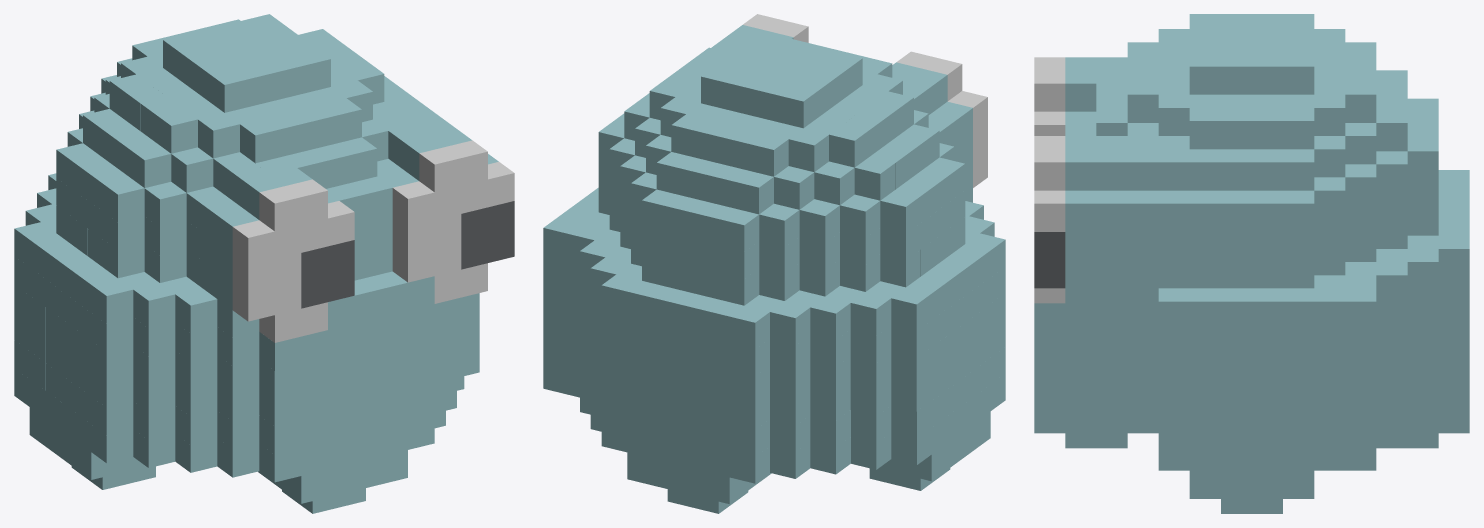
File: ghost_cyan.glb
3 views of the same model, side by side, from view 1: azimuth 30°, elevation 25°; view 2: azimuth 150°, elevation 25°; view 3: azimuth 270°, elevation 25° (orthographic). The views are drawn at different scales.
Visible parts, largest first — view 1: Mesh_Mesh_head_geo.001_lambert2SG.001; view 2: Mesh_Mesh_head_geo.001_lambert2SG.001; view 3: Mesh_Mesh_head_geo.001_lambert2SG.001.
Boxes of the visible parts, x1,y1,x2,y2 form: Mesh_Mesh_head_geo.001_lambert2SG.001: (14, 14, 514, 513); Mesh_Mesh_head_geo.001_lambert2SG.001: (543, 14, 1005, 513); Mesh_Mesh_head_geo.001_lambert2SG.001: (1034, 14, 1469, 513).
Bounding box in the file's own units: 0.07 × 0.07 × 0.07.
